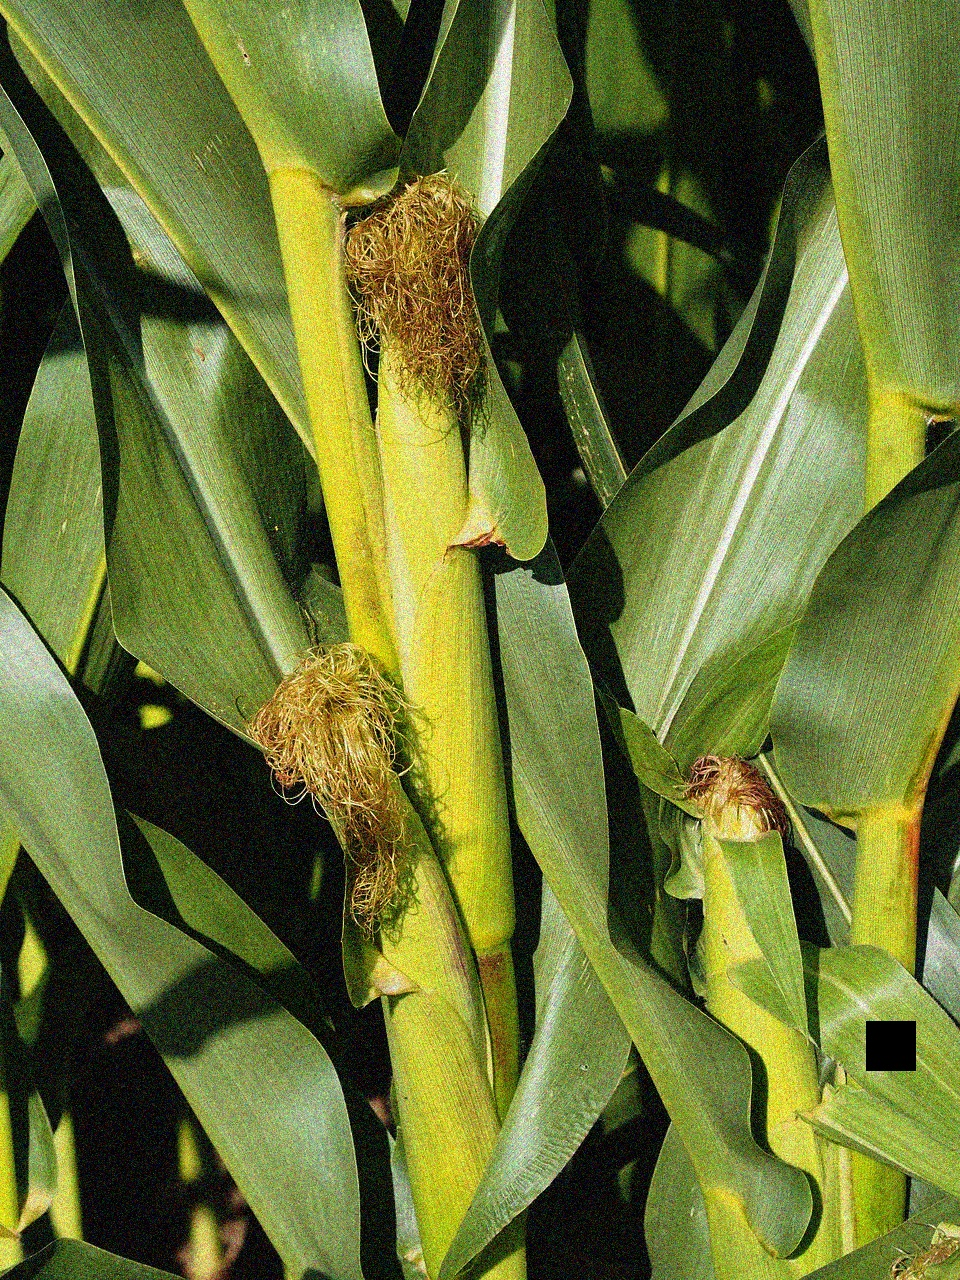corn_plant: (261, 677, 517, 1280), (337, 206, 524, 982)
